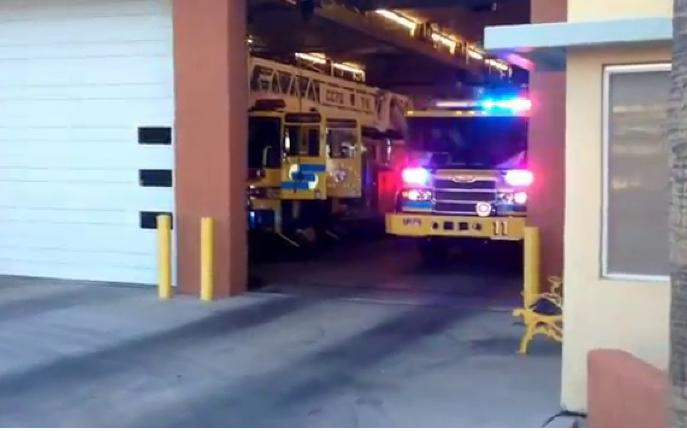firetruck_off: (246, 57, 383, 250)
firetruck_on: (383, 91, 536, 270)
